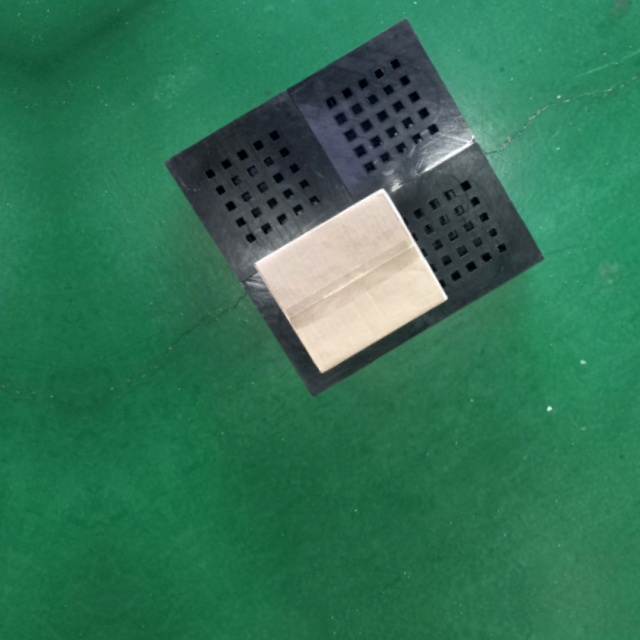box: (253, 183, 449, 380)
pallet: (155, 9, 556, 413)
